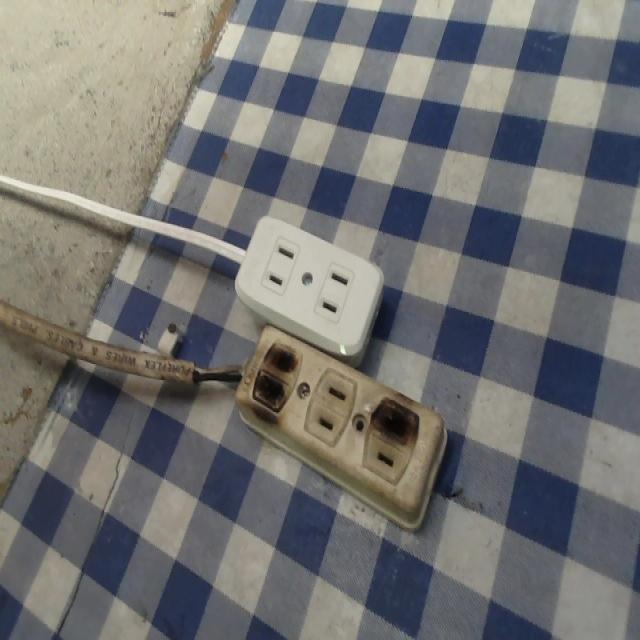-: (248, 335, 304, 416), (370, 388, 424, 451)
